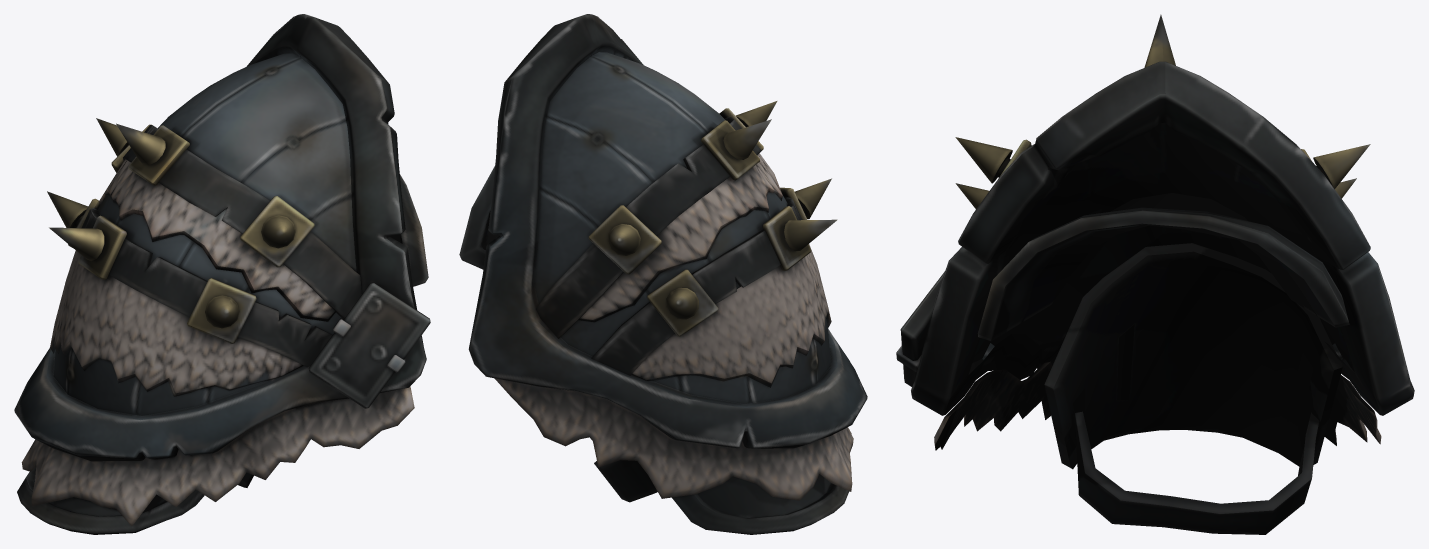
Rendered from sm_armor_human_void_paldron_r.gltf.
3 renders of one model, left to right at view 1: azimuth 30°, elevation 25°; view 2: azimuth 150°, elevation 25°; view 3: azimuth 270°, elevation 25°, orthographic. The views are drawn at different scales.
Parts seen in each view (by area): view 1: paldron R; view 2: paldron R; view 3: paldron R.
Part boxes in pixels (x1=…): paldron R: x1=14, y1=14, x2=430, y2=534; paldron R: x1=459, y1=14, x2=867, y2=534; paldron R: x1=896, y1=14, x2=1414, y2=534.
Size of the model in its own units: 35.49 by 45.88 by 41.13.
1 material, 1 textured.
